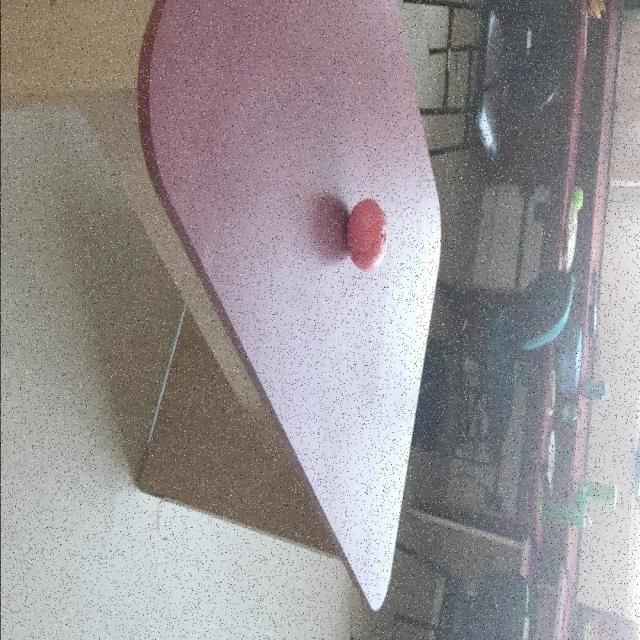Orange: (346, 199, 388, 274), (570, 188, 584, 212)
